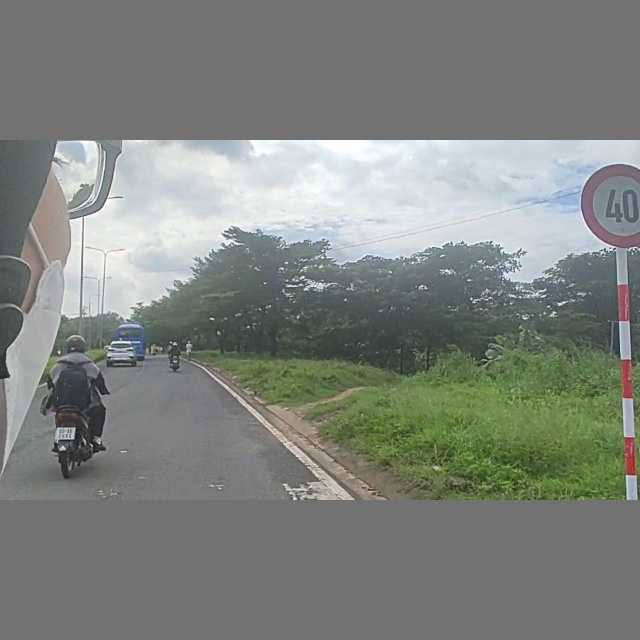P.127*40: (577, 161, 640, 251)
